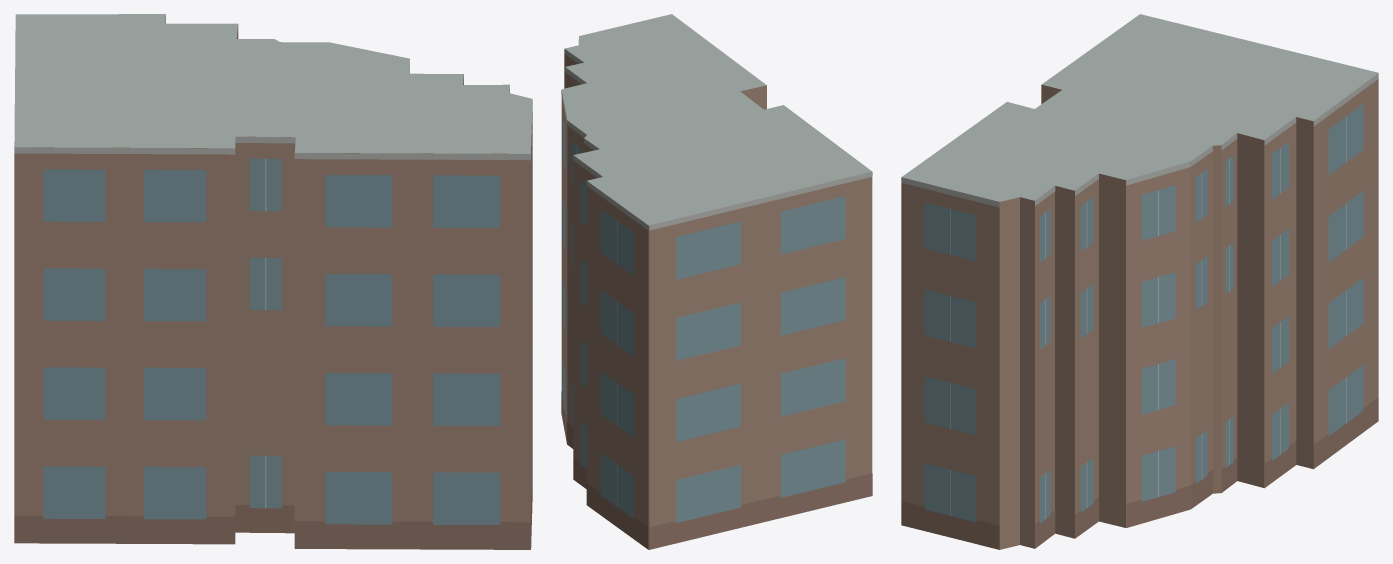
File: survey-upis-32706599.glb
3 renders of one model, left to right at view 1: azimuth 30°, elevation 25°; view 2: azimuth 150°, elevation 25°; view 3: azimuth 270°, elevation 25°, orthographic. The views are drawn at different scales.
Parts seen in each view (by area): view 1: survey-upis-32706599.tmp; view 2: survey-upis-32706599.tmp; view 3: survey-upis-32706599.tmp.
Boxes of the visible parts, box(x1,y1,x2,y2) form: survey-upis-32706599.tmp: box(14, 14, 532, 549); survey-upis-32706599.tmp: box(561, 14, 872, 549); survey-upis-32706599.tmp: box(901, 14, 1378, 549).
Size of the model in its own units: 17.85 by 15.4 by 19.16.
